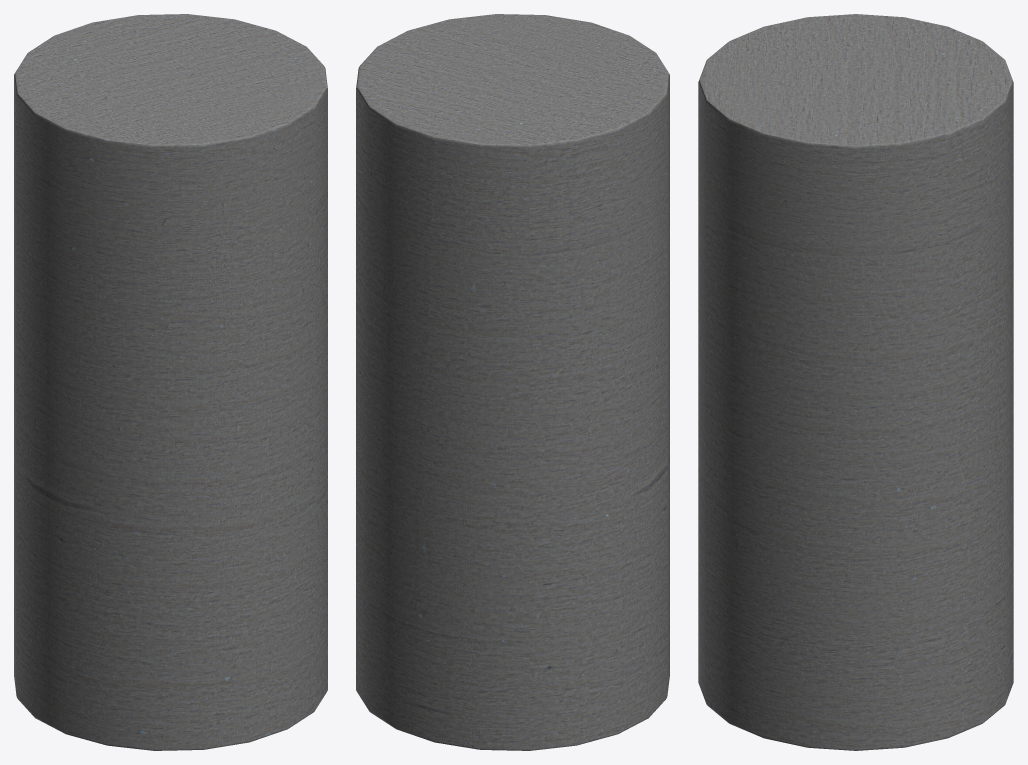
The model's file is Tall Cylinder UVed OBJ.obj.
3 views of the same model, side by side, from view 1: azimuth 30°, elevation 25°; view 2: azimuth 150°, elevation 25°; view 3: azimuth 270°, elevation 25° (orthographic).
Parts seen in each view (by area): view 1: pCylinder2; view 2: pCylinder2; view 3: pCylinder2.
Part boxes in pixels (bbox=[...]): pCylinder2: bbox=[14, 14, 327, 750]; pCylinder2: bbox=[356, 14, 669, 750]; pCylinder2: bbox=[698, 14, 1013, 750].
Size of the model in its own units: 90.43 by 192 by 90.43.
Materials: 1 (1 with a texture image).
